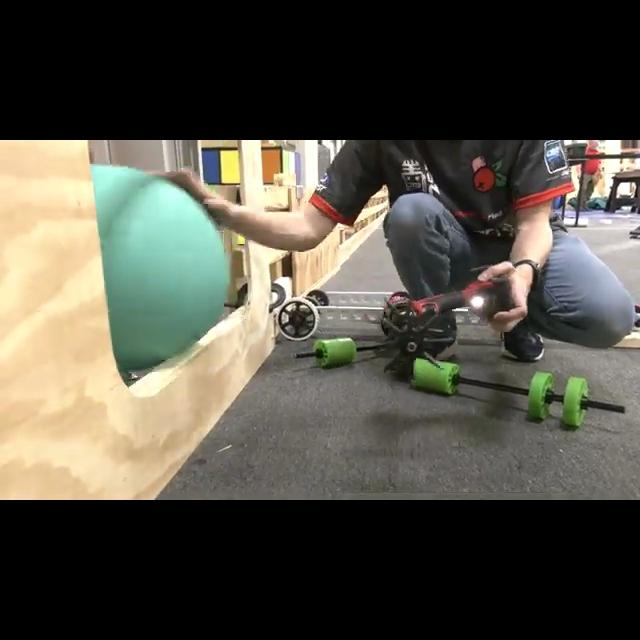ALGAE: (88, 162, 230, 378)
